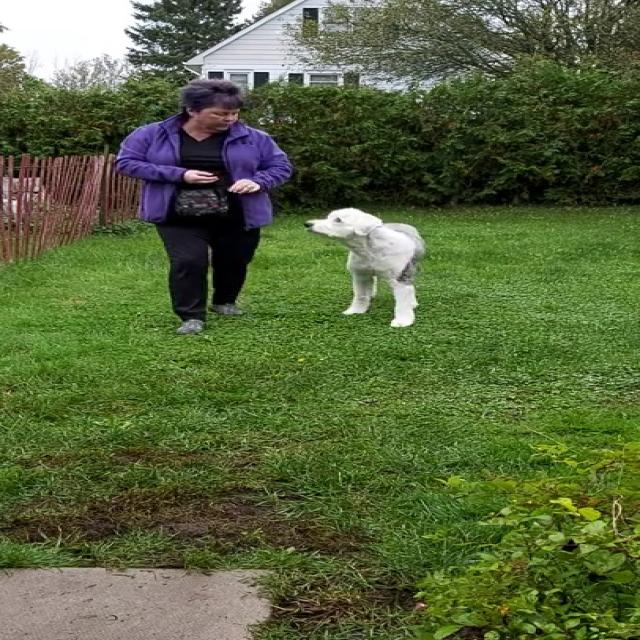Unleashed_Dog: (210, 206, 428, 327)
